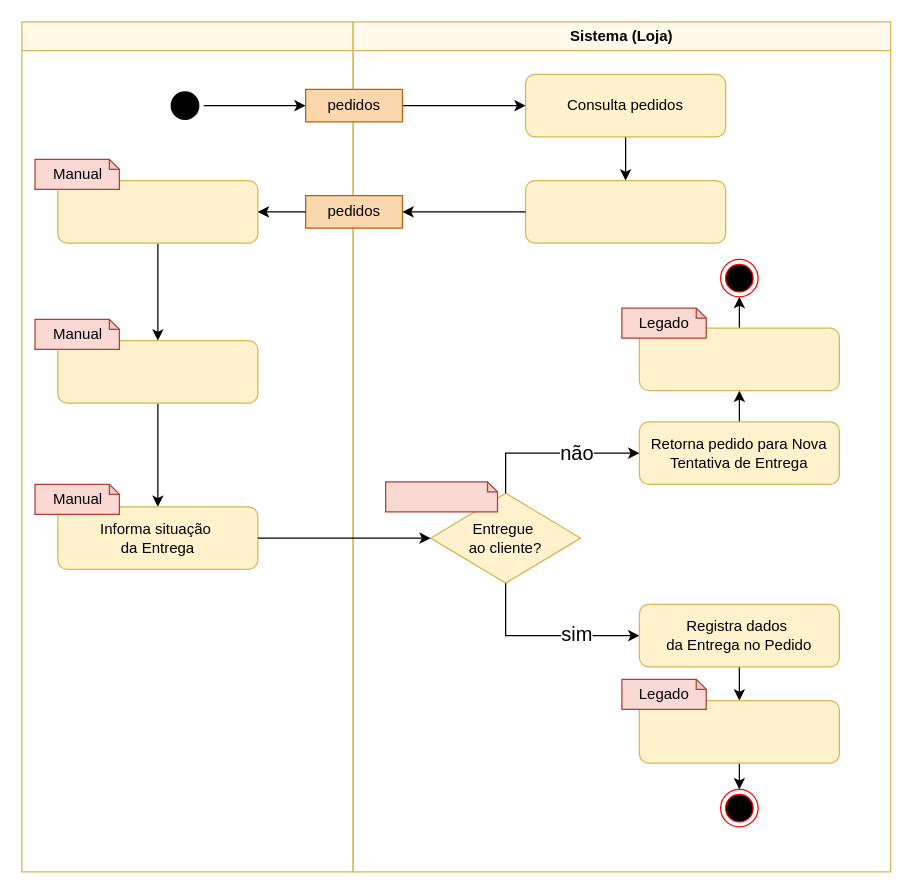
The diagram is 913 pixels wide and 894 high, and some of its shapes have lost their labels. The shapes that lost their labels are listed below. From the top down, each one's box as (x1, y1, x2, y2) in pixels, then its label:
(57, 179, 258, 243): Seleciona pedido para entregar
(524, 179, 726, 243): Apresenta pedidos a serem entregues
(57, 339, 258, 403): Realiza procedimento de Entrega
(638, 327, 839, 391): Envia e-mail para Cliente Falha na Entrega
(21, 21, 353, 872): Entregador
(384, 481, 498, 512): Orquestração
(638, 699, 839, 763): Envia e-mail para Cliente Entrega Realizada
